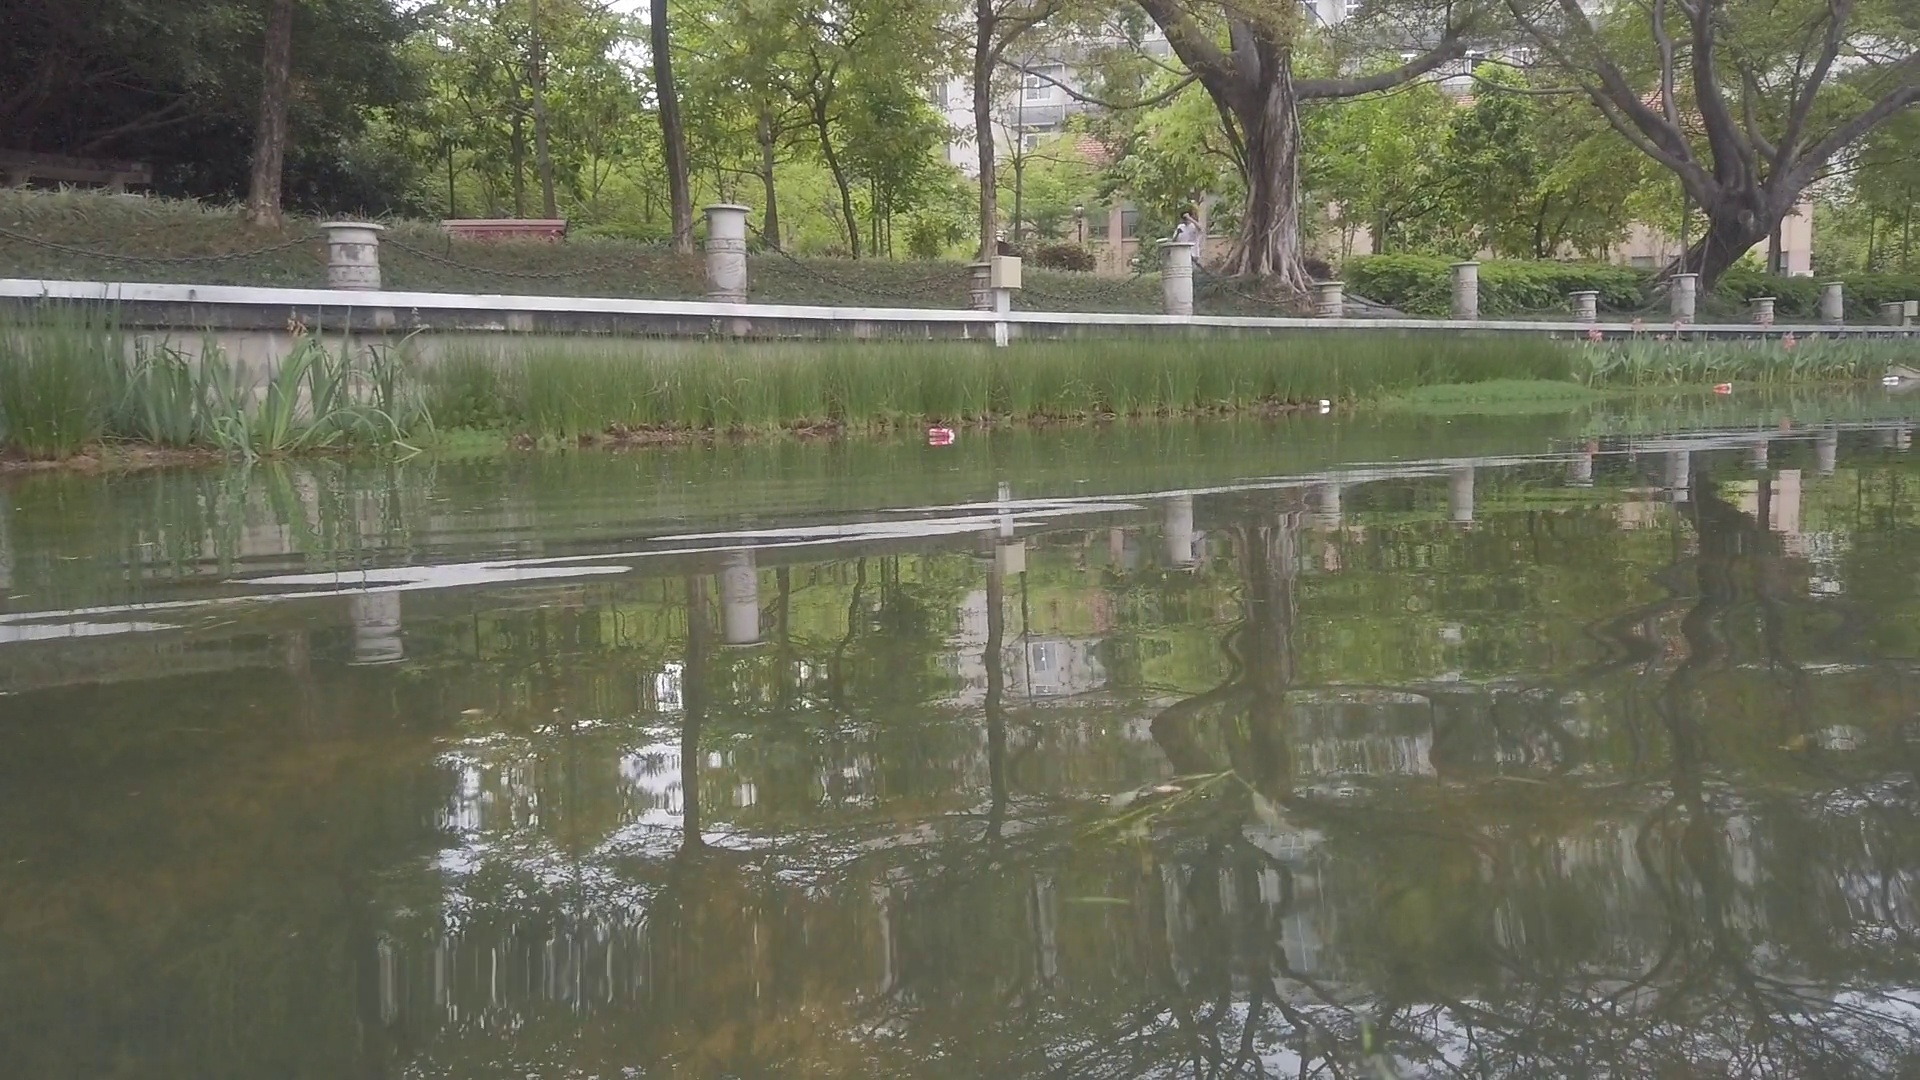bottle: (1880, 373, 1905, 386), (927, 429, 952, 439), (1714, 382, 1731, 392)
carton: (1319, 400, 1331, 407)
